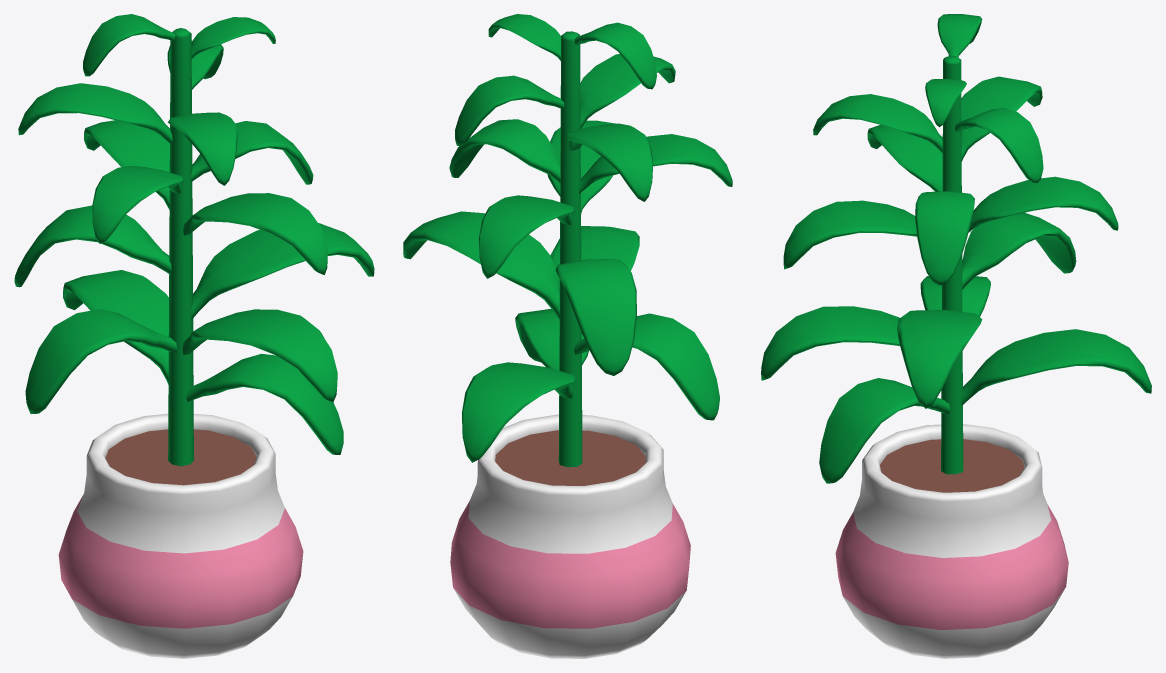
Rendered from Town_3_Plant_4.glb.
3 renders of one model, left to right at view 1: azimuth 30°, elevation 25°; view 2: azimuth 150°, elevation 25°; view 3: azimuth 270°, elevation 25°, orthographic. The views are drawn at different scales.
Parts seen in each view (by area): view 1: Town_3_Plant_4; view 2: Town_3_Plant_4; view 3: Town_3_Plant_4.
Part boxes in pixels (x1=…): Town_3_Plant_4: x1=14, y1=14, x2=374, y2=658; Town_3_Plant_4: x1=403, y1=14, x2=732, y2=658; Town_3_Plant_4: x1=761, y1=14, x2=1151, y2=658.
Bounding box in the file's own units: 0.7693 × 1.36 × 0.8293.
Materials: 1 (1 with a texture image).
